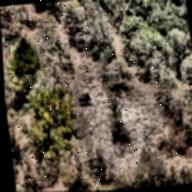boar: (76, 86, 95, 108)
